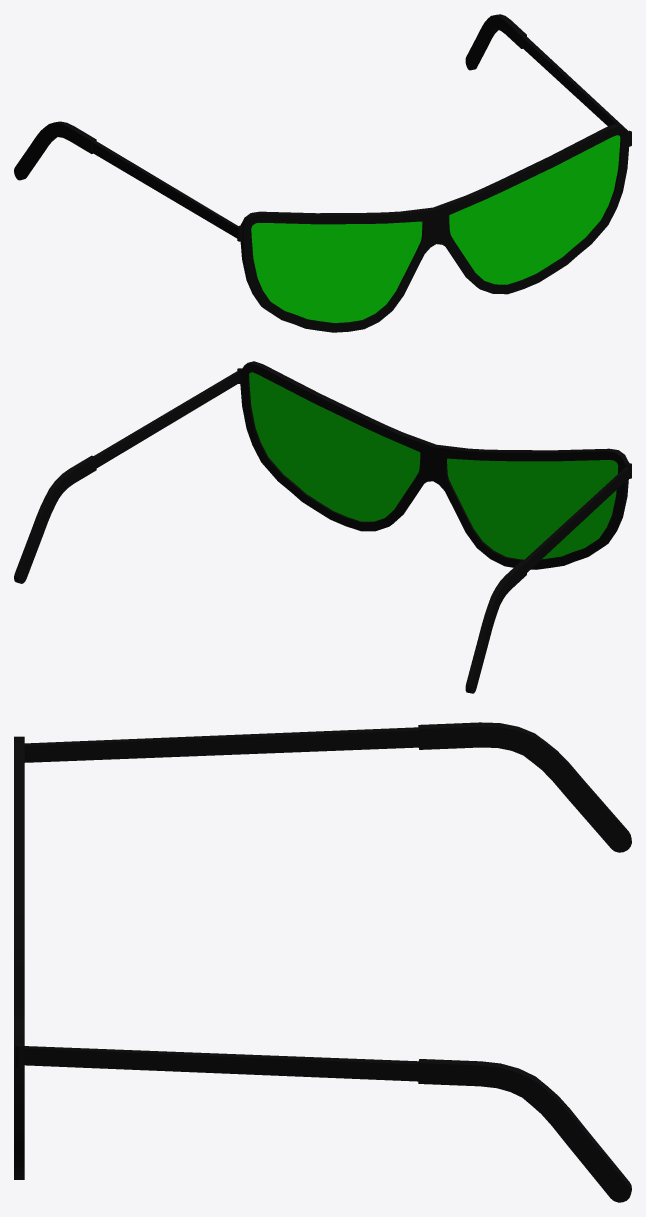
The model's file is glasses23.001.obj.
3 views of the same model, one above another, from view 1: azimuth 30°, elevation 25°; view 2: azimuth 150°, elevation 25°; view 3: azimuth 270°, elevation 25° (orthographic). The views are drawn at different scales.
Parts seen in each view (by area): view 1: glasses23.001_glasses23.003_Material.028, glasses23.001_glasses23.003_Material.016; view 2: glasses23.001_glasses23.003_Material.028, glasses23.001_glasses23.003_Material.016; view 3: glasses23.001_glasses23.003_Material.016.
Part boxes in pixels (x1,y1,x2,y2): glasses23.001_glasses23.003_Material.028: (251, 135, 620, 322); glasses23.001_glasses23.003_Material.016: (14, 14, 631, 332); glasses23.001_glasses23.003_Material.028: (249, 372, 618, 559); glasses23.001_glasses23.003_Material.016: (14, 361, 631, 693); glasses23.001_glasses23.003_Material.016: (14, 722, 631, 1202).
Bounding box in the file's own units: 2.2 × 0.6471 × 1.62.
